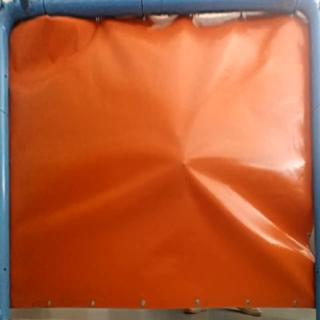Hit-hRxx: (178, 157, 188, 170)
